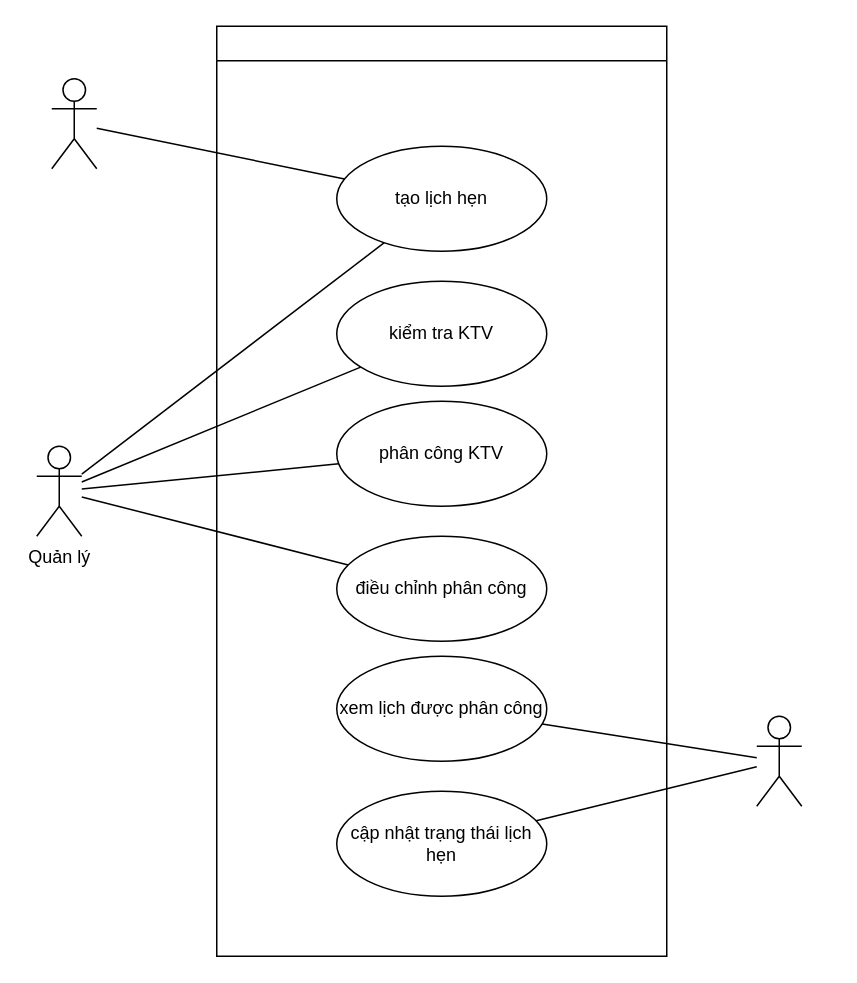
Image size: 857x983. Some labels were removed from this diagram. Here are the shapes that lost their labels. From the top down, the centre of each, then its label:
point 73,123: Khách hàng
point 441,490: hệ thống quản lí lịch hẹn và phân công KTV
point 778,760: Kỹ thuật viên
